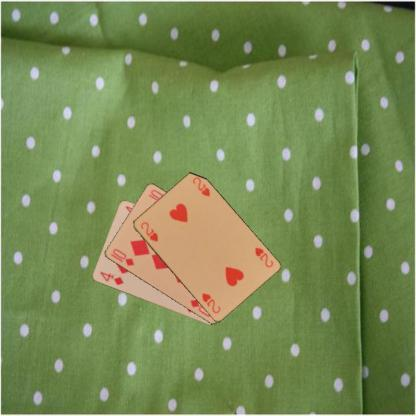10d: (108, 246, 135, 268)
2h: (252, 244, 274, 269), (138, 219, 159, 243)
4d: (97, 269, 124, 287)
